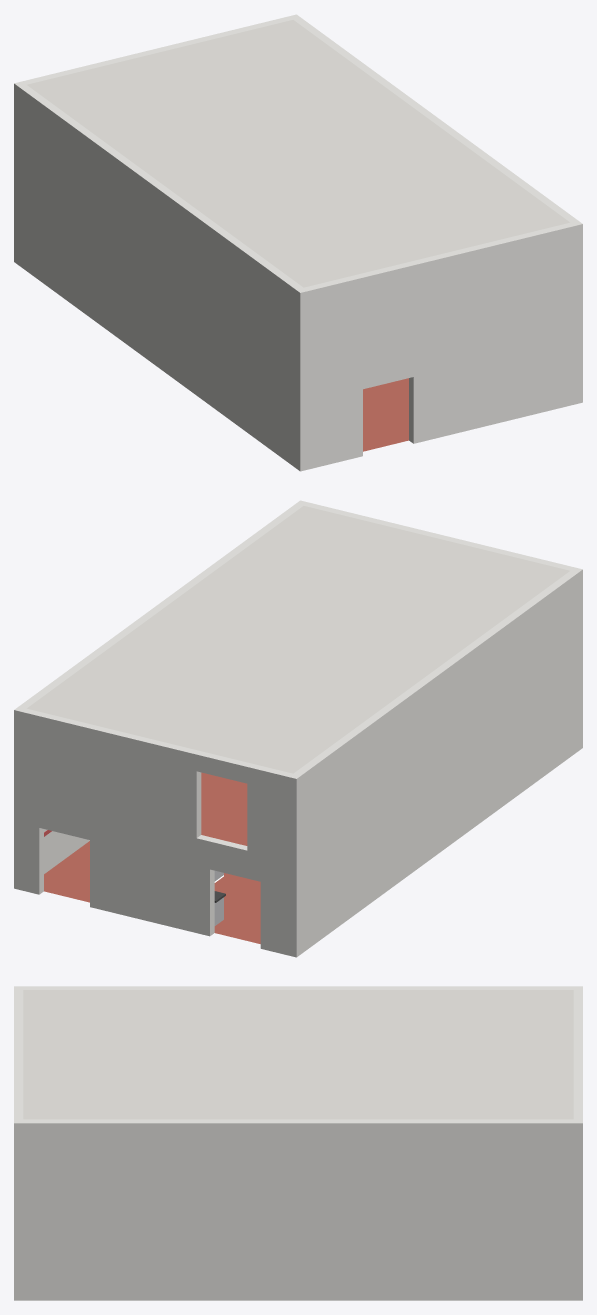
Rendered from burger4.glb.
The picture shows the model from 3 angles, top to bottom: view 1: azimuth 30°, elevation 25°; view 2: azimuth 150°, elevation 25°; view 3: azimuth 270°, elevation 25°; orthographic projection.
Parts seen in each view (by area): view 1: burger4; view 2: burger4; view 3: burger4.
Boxes of the visible parts, box(x1,y1,x2,y2) form: burger4: box(14, 14, 582, 471); burger4: box(14, 500, 582, 957); burger4: box(14, 986, 582, 1300).
Size of the model in its own units: 10.6 by 6.4 by 18.6.
